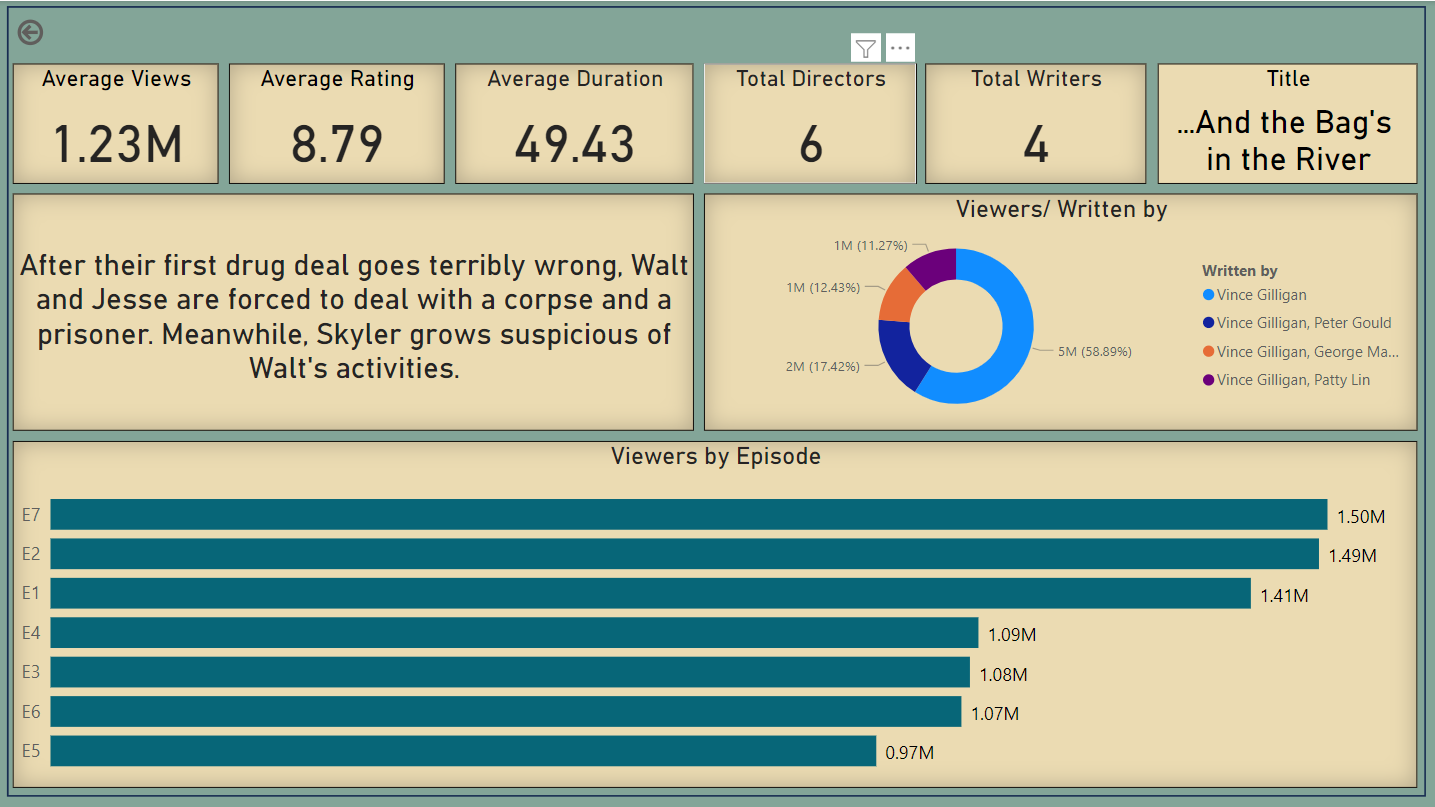

What the dashboard file says about the page in this screenshot:
{"tool":"powerbi","page":{"name":"Season 1","canvas":[1280,720],"ordinal":1},"visuals":[{"type":"card","title":"Average Views","fields":{"Values":["breaking_bad.AverageViewsSeason1"]},"box":[12.1,55.5,183.3,107.3],"z":0},{"type":"card","title":"Average Rating","fields":{"Values":["breaking_bad.Average Rating Season 1"]},"box":[205,55.5,191.8,107.3],"z":1000},{"type":"card","title":"Average Duration","fields":{"Values":["breaking_bad.Average Duration Season 1"]},"box":[406.4,55.5,212.3,107.3],"z":2000},{"type":"actionButton","box":[12.1,12.1,69.9,31.4],"z":3000},{"type":"card","title":"Summary","fields":{"Values":["Min(breaking_bad.Summary)"]},"box":[12.1,171.3,606.6,211.1],"z":4000},{"type":"donutChart","title":"Viewers/ Written by","fields":{"Y":["Sum(breaking_bad.US.viewers_million)"],"Category":["breaking_bad.Written by"]},"box":[627.1,171.3,635.6,211.1],"z":5000},{"type":"barChart","title":"Viewers by Episode","fields":{"Category":["breaking_bad.Episode"],"Y":["Sum(breaking_bad.US.viewers_million)"]},"box":[12.1,392,1250.7,308.7],"z":6000},{"type":"card","title":"Total Directors","fields":{"Values":["Count(breaking_bad.Directed by)"]},"box":[627.1,55.5,189.3,107.3],"z":7000},{"type":"card","title":"Total Writers","fields":{"Values":["Count(breaking_bad.Written by)"]},"box":[824.9,55.5,196.6,107.3],"z":8000},{"type":"card","title":"Title","fields":{"Values":["Min(breaking_bad.Title)"]},"box":[1031.2,55.5,231.6,107.3],"z":9000}]}

Visuals, with their boxes in screenshot pixels (x1, y1, x2, y2), scaled from the page's 1280x720 canvas onto the 1435x807 screenshot:
"Average Views" card: (14, 62, 219, 182)
"Average Rating" card: (230, 62, 445, 182)
"Average Duration" card: (456, 62, 694, 182)
actionButton: (14, 14, 92, 49)
"Summary" card: (14, 192, 694, 429)
"Viewers/ Written by" donutChart: (703, 192, 1416, 429)
"Viewers by Episode" barChart: (14, 439, 1416, 785)
"Total Directors" card: (703, 62, 915, 182)
"Total Writers" card: (925, 62, 1145, 182)
"Title" card: (1156, 62, 1416, 182)
